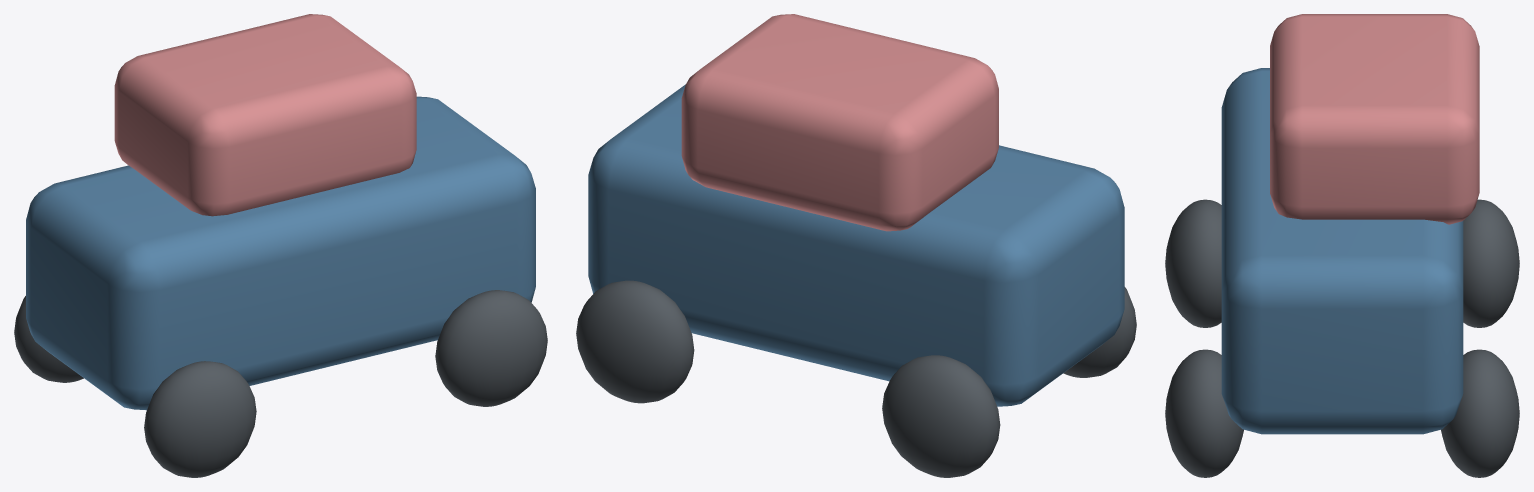
File: atelier-toy-car.glb
The picture shows the model from 3 angles, left to right: view 1: azimuth 30°, elevation 25°; view 2: azimuth 150°, elevation 25°; view 3: azimuth 270°, elevation 25°; orthographic projection. The views are drawn at different scales.
Parts seen in each view (by area): view 1: artBlue.031, flower.006, metal.169; view 2: artBlue.031, flower.006, metal.169; view 3: artBlue.031, flower.006, metal.169.
Part boxes in pixels (bbox=[...]): artBlue.031: bbox=[26, 96, 535, 410]; flower.006: bbox=[114, 14, 416, 216]; metal.169: bbox=[14, 290, 547, 477]; artBlue.031: bbox=[588, 84, 1124, 406]; flower.006: bbox=[681, 14, 998, 231]; metal.169: bbox=[576, 280, 1136, 477]; artBlue.031: bbox=[1221, 68, 1463, 434]; flower.006: bbox=[1270, 14, 1479, 224]; metal.169: bbox=[1165, 199, 1519, 477].
Size of the model in its own units: 0.32 by 0.23 by 0.22.
